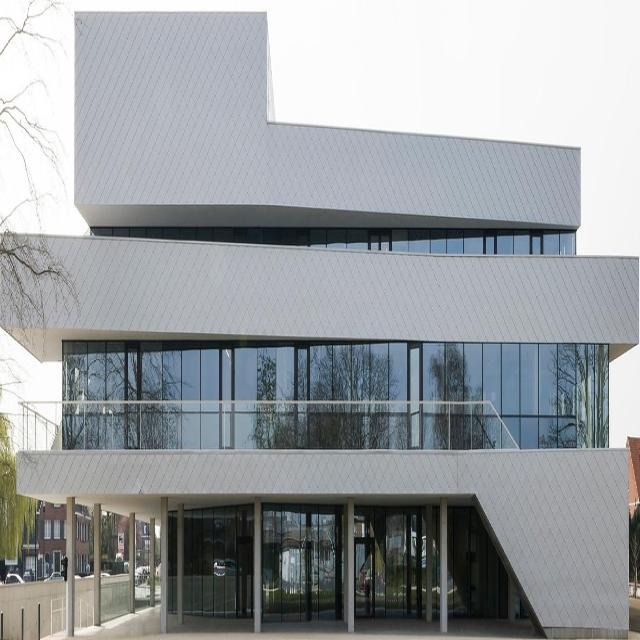door: (353, 538, 375, 618)
railing: (16, 397, 521, 452)
window: (61, 339, 610, 449), (353, 509, 509, 617), (90, 226, 576, 255), (261, 504, 344, 617), (167, 505, 253, 612)
